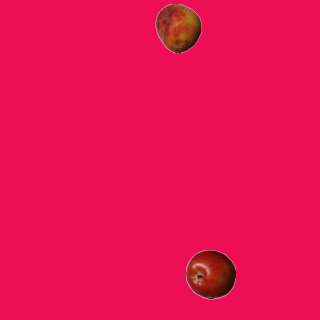Apple Braeburn: (185, 249, 235, 299)
Peach: (153, 3, 203, 53)
